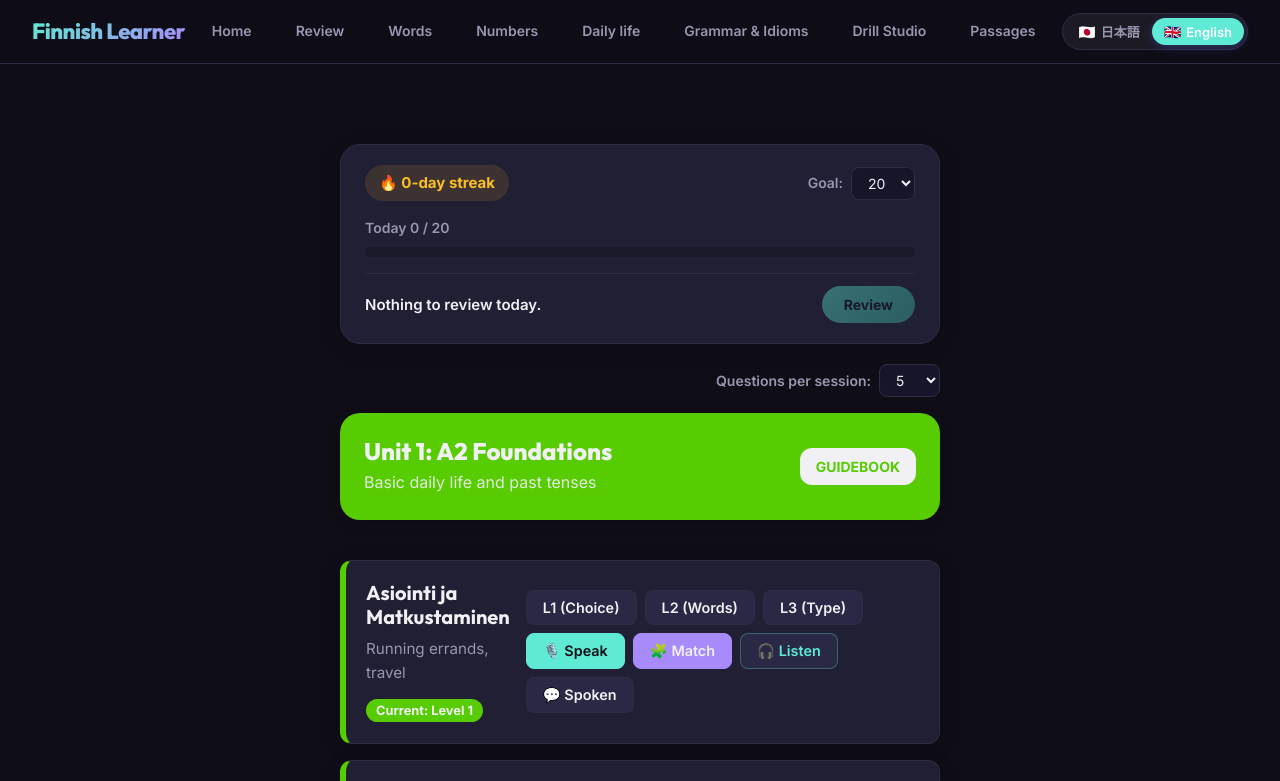
it: App Component › switches UI language when language toggle in navbar is clicked
Click the button "🇯🇵 日本語": click(1109, 32) [1066, 17, 1152, 46]
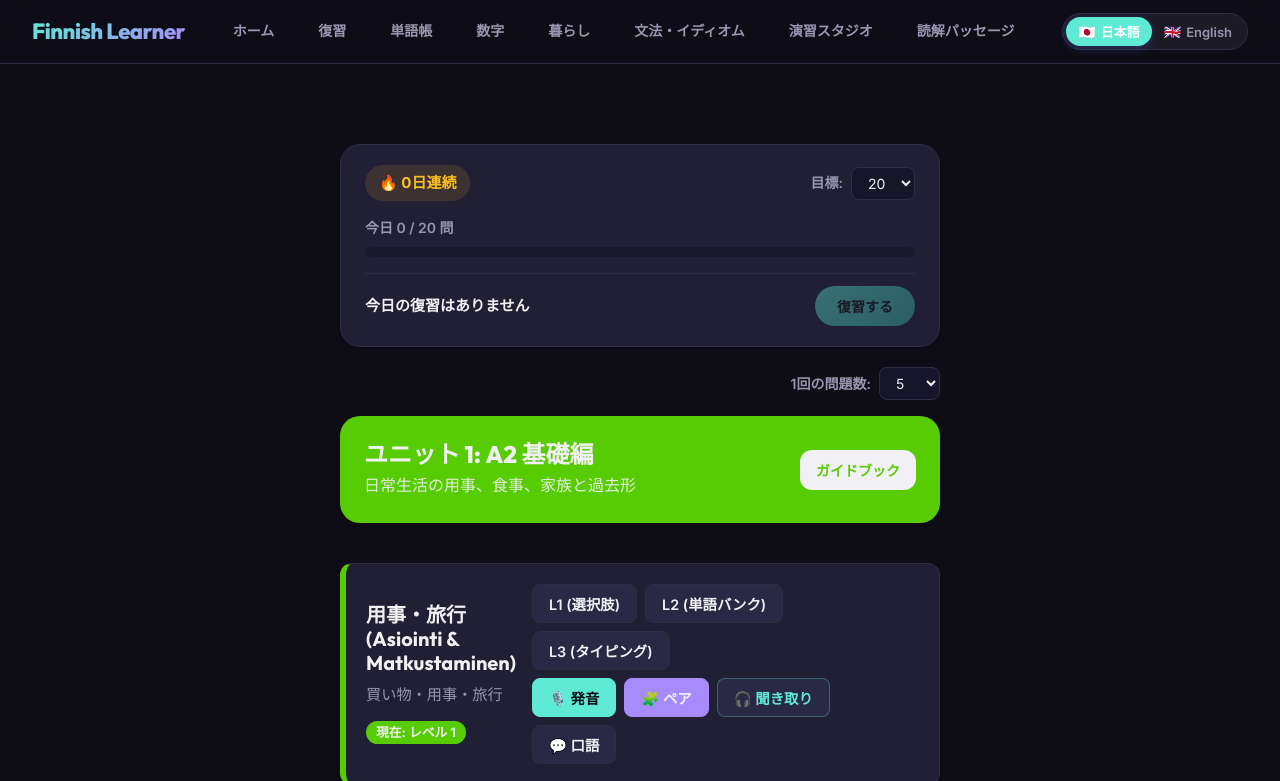
Check: the link "ホーム" is shown, box [233, 22, 274, 39]
Check: the link "演習スタジオ" is shown, box [789, 22, 873, 39]
Click the button "🇬🇧 English": click(1198, 32) [1152, 18, 1244, 45]
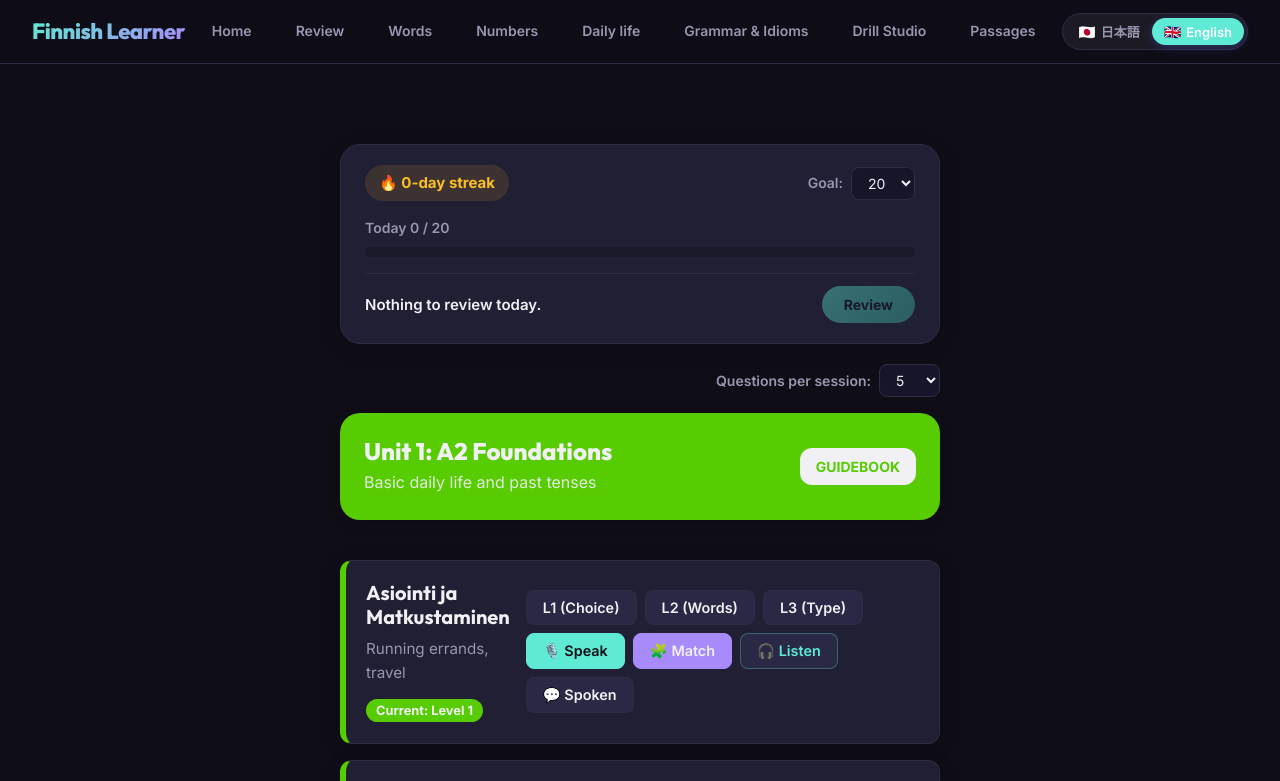
Check: the link "Home" is shown, box [212, 22, 252, 39]
Check: the link "Drill Studio" is shown, box [852, 22, 926, 39]
